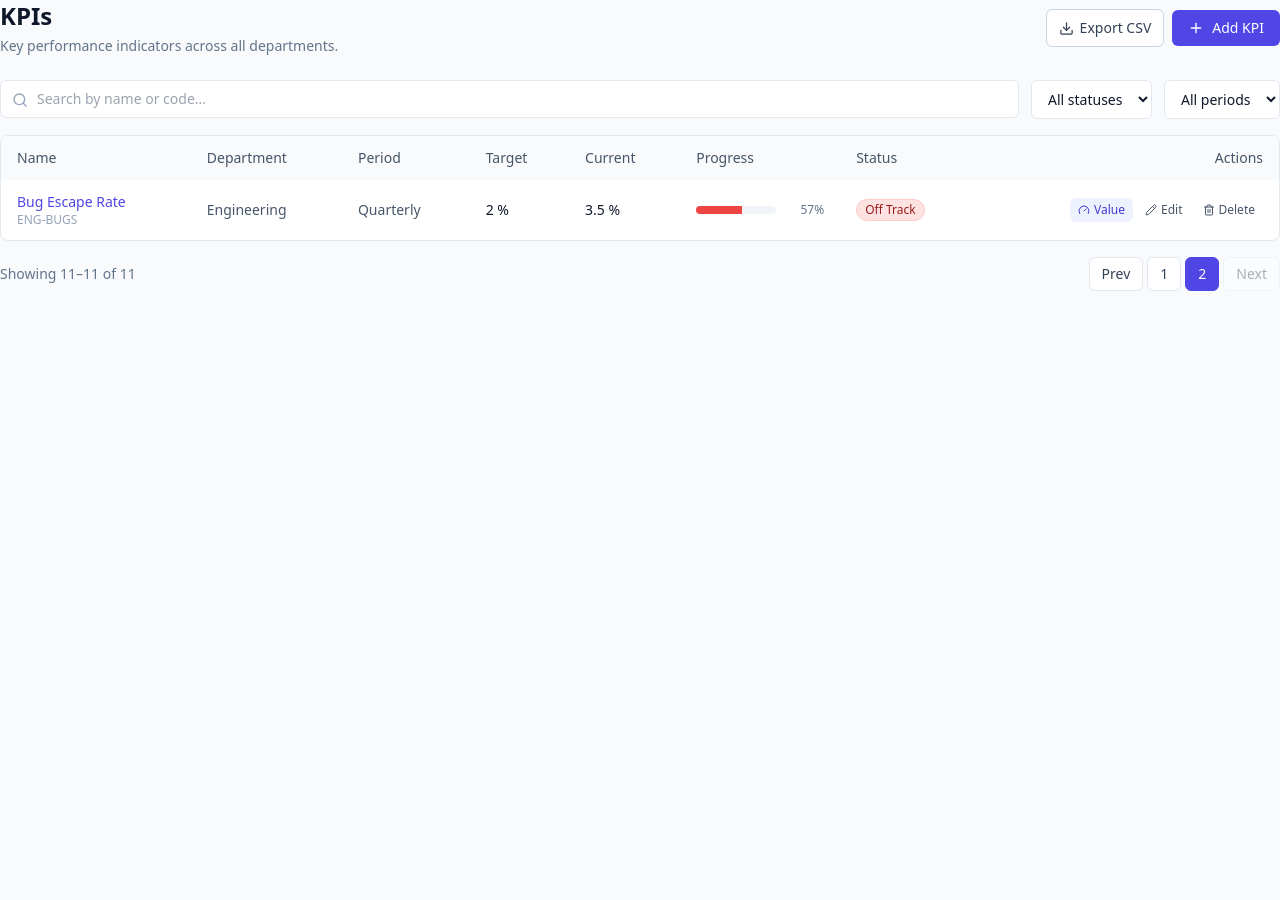
Test: KpisPage Integration & Workflow Tests › Delete Workflow › deletes KPI on confirmation, displays success toast, and steps back page if deleting last item
Expected: the link "Bug Escape Rate" is shown, [17,192,126,211]
Click the button "Delete".
click(1229, 210)  # box [1194,198,1263,222]
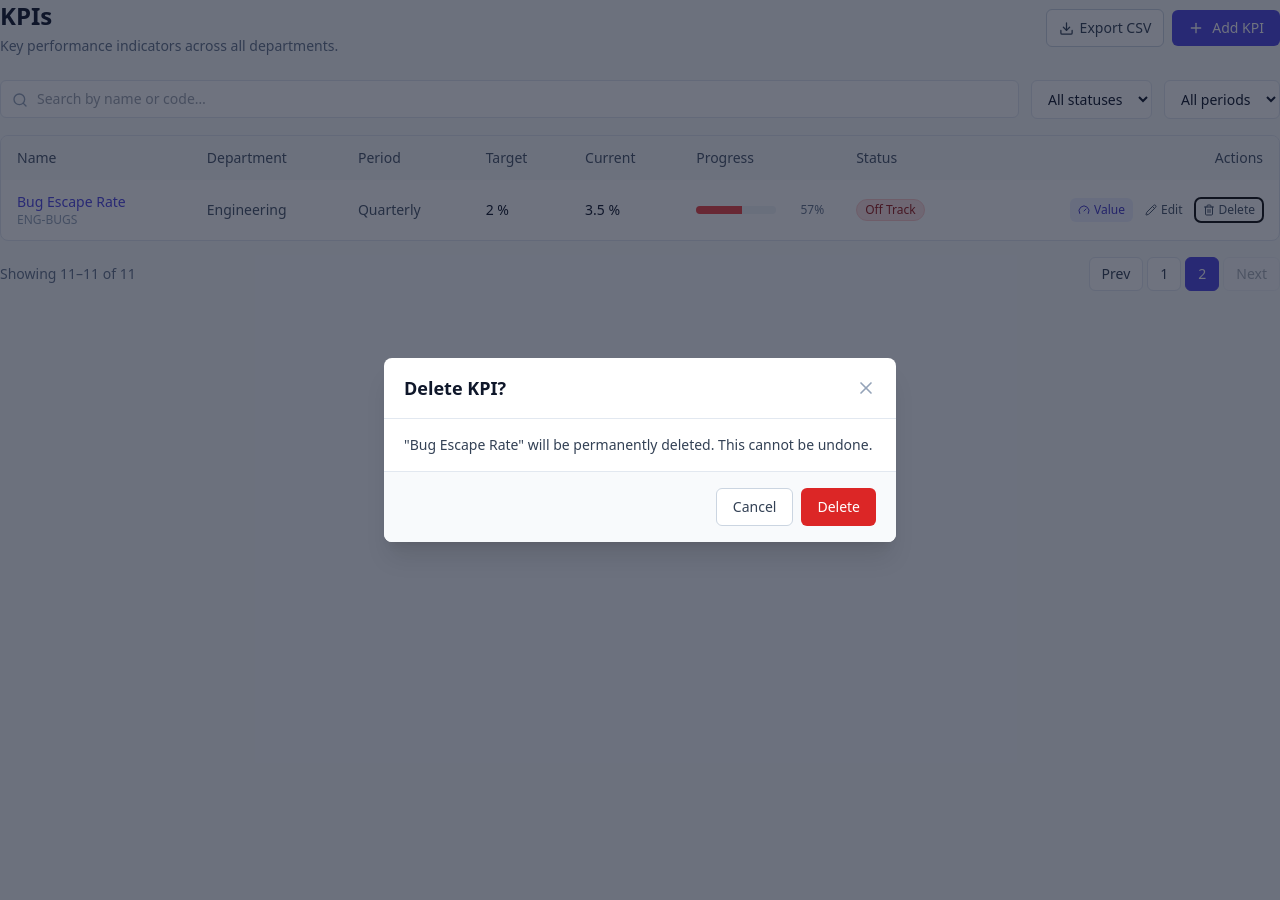
Click the button "Delete".
click(839, 507)  # box [801,488,876,526]
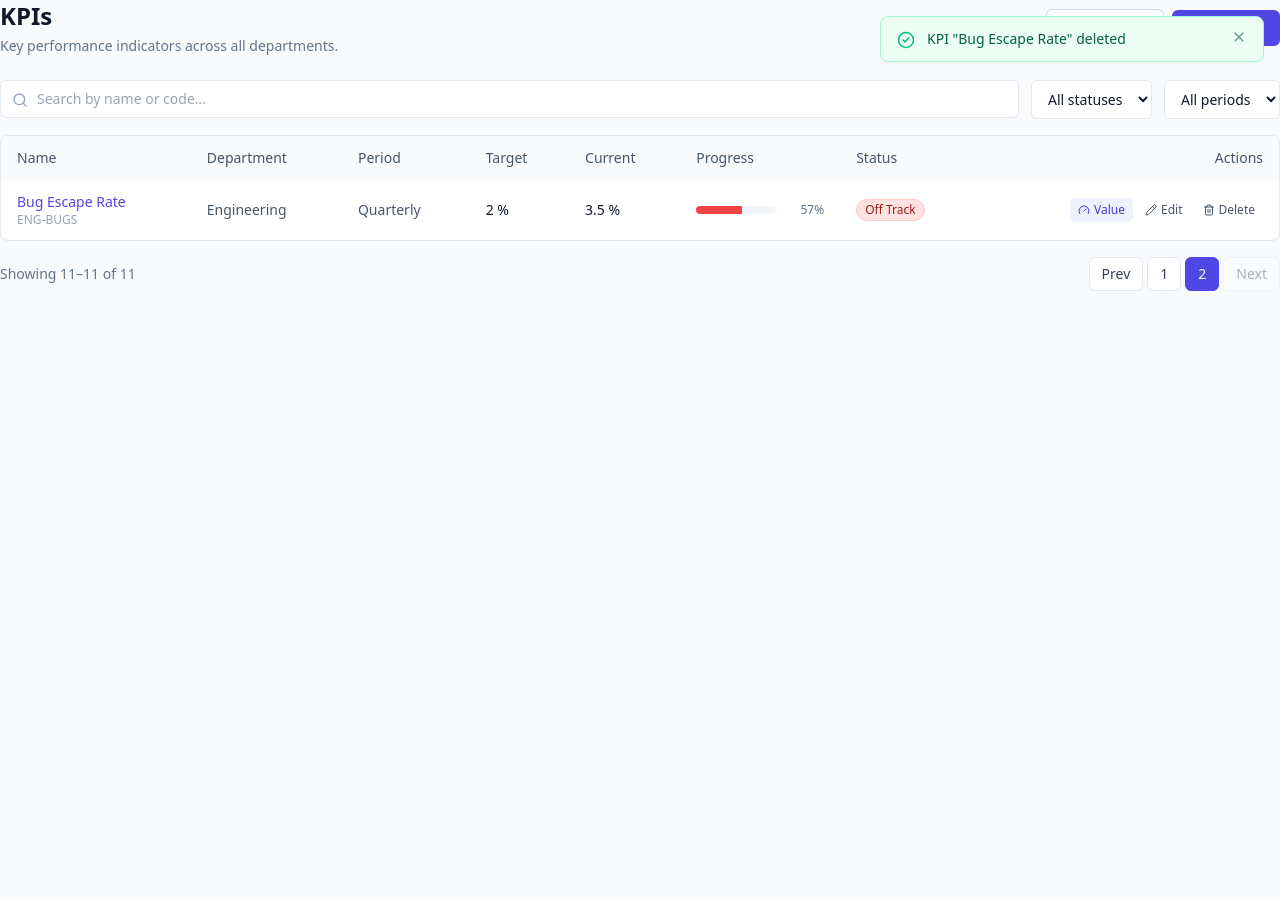
Result: the text "KPI \"Bug Escape Rate\" deleted" is shown at [927,29,1126,48]
